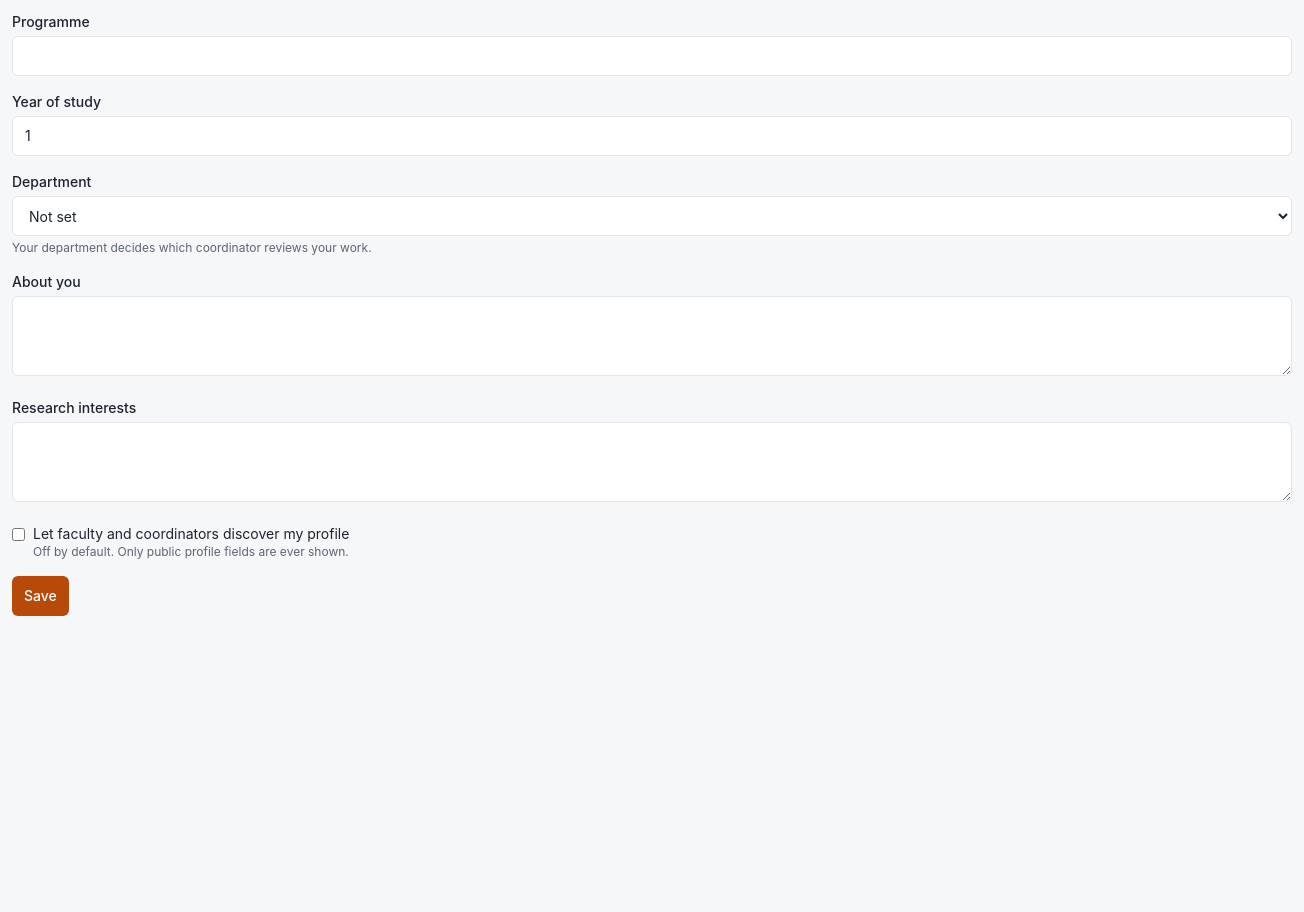
Test: ProfileForm › renders student fields for a student and validates them
Expected: the field labelled "Programme" is shown, left=12, top=36, right=1292, bottom=76
Click the button "Save": x=40, y=596 left=12, top=576, right=69, bottom=616
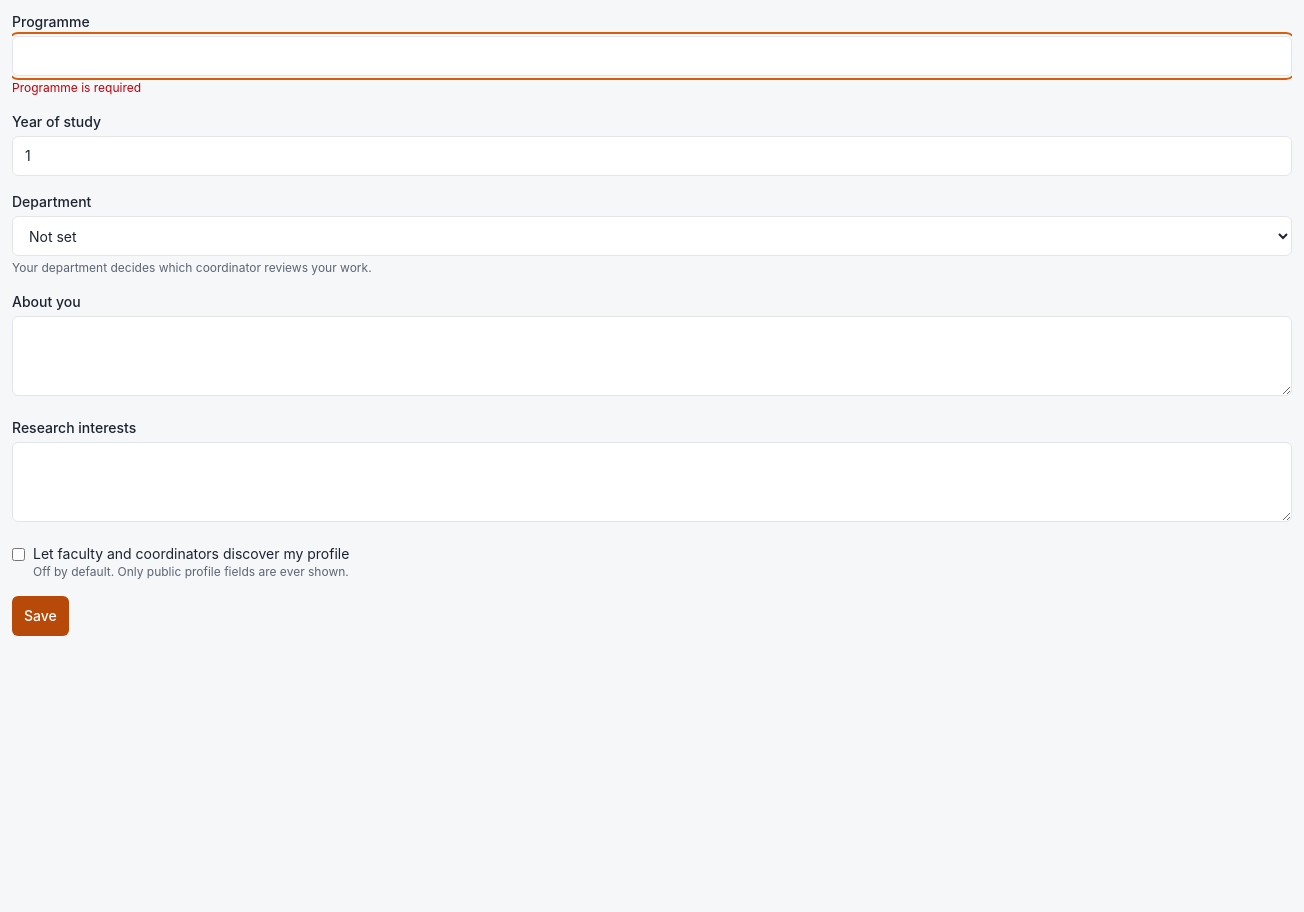
Now the text "Programme is required" is shown, box left=12, top=80, right=141, bottom=95
